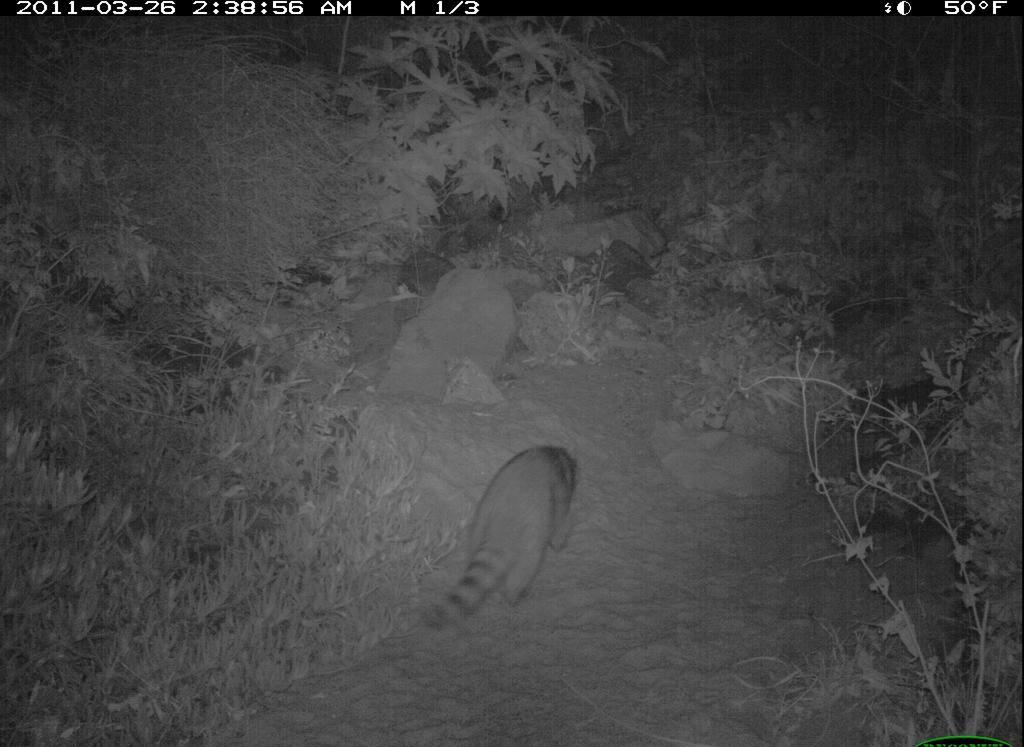raccoon: (424, 442, 588, 637)
